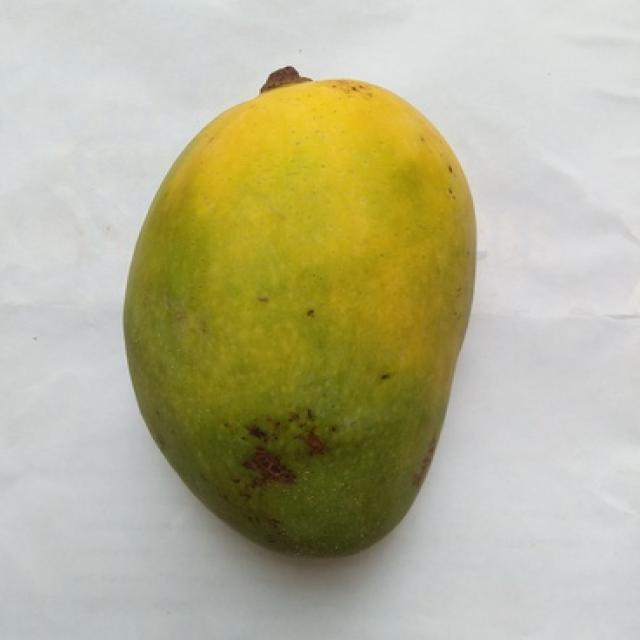Mango: (125, 80, 471, 554)
